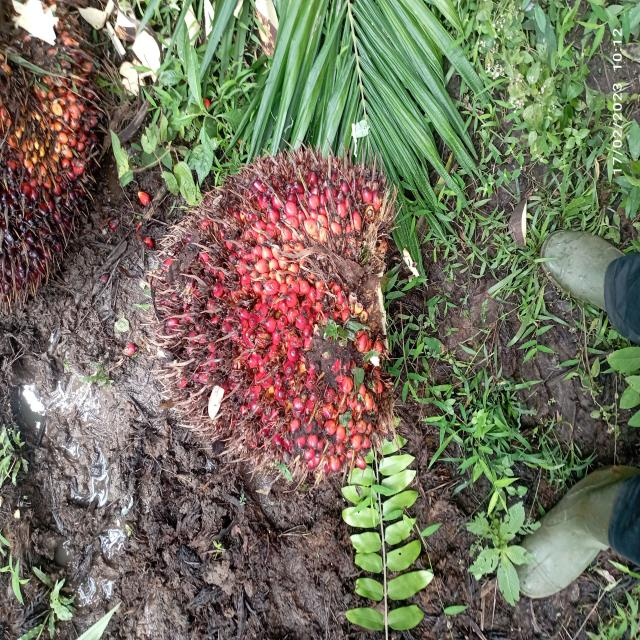fraksi 00: (0, 14, 141, 325)
fraksi 3: (113, 124, 471, 503)
